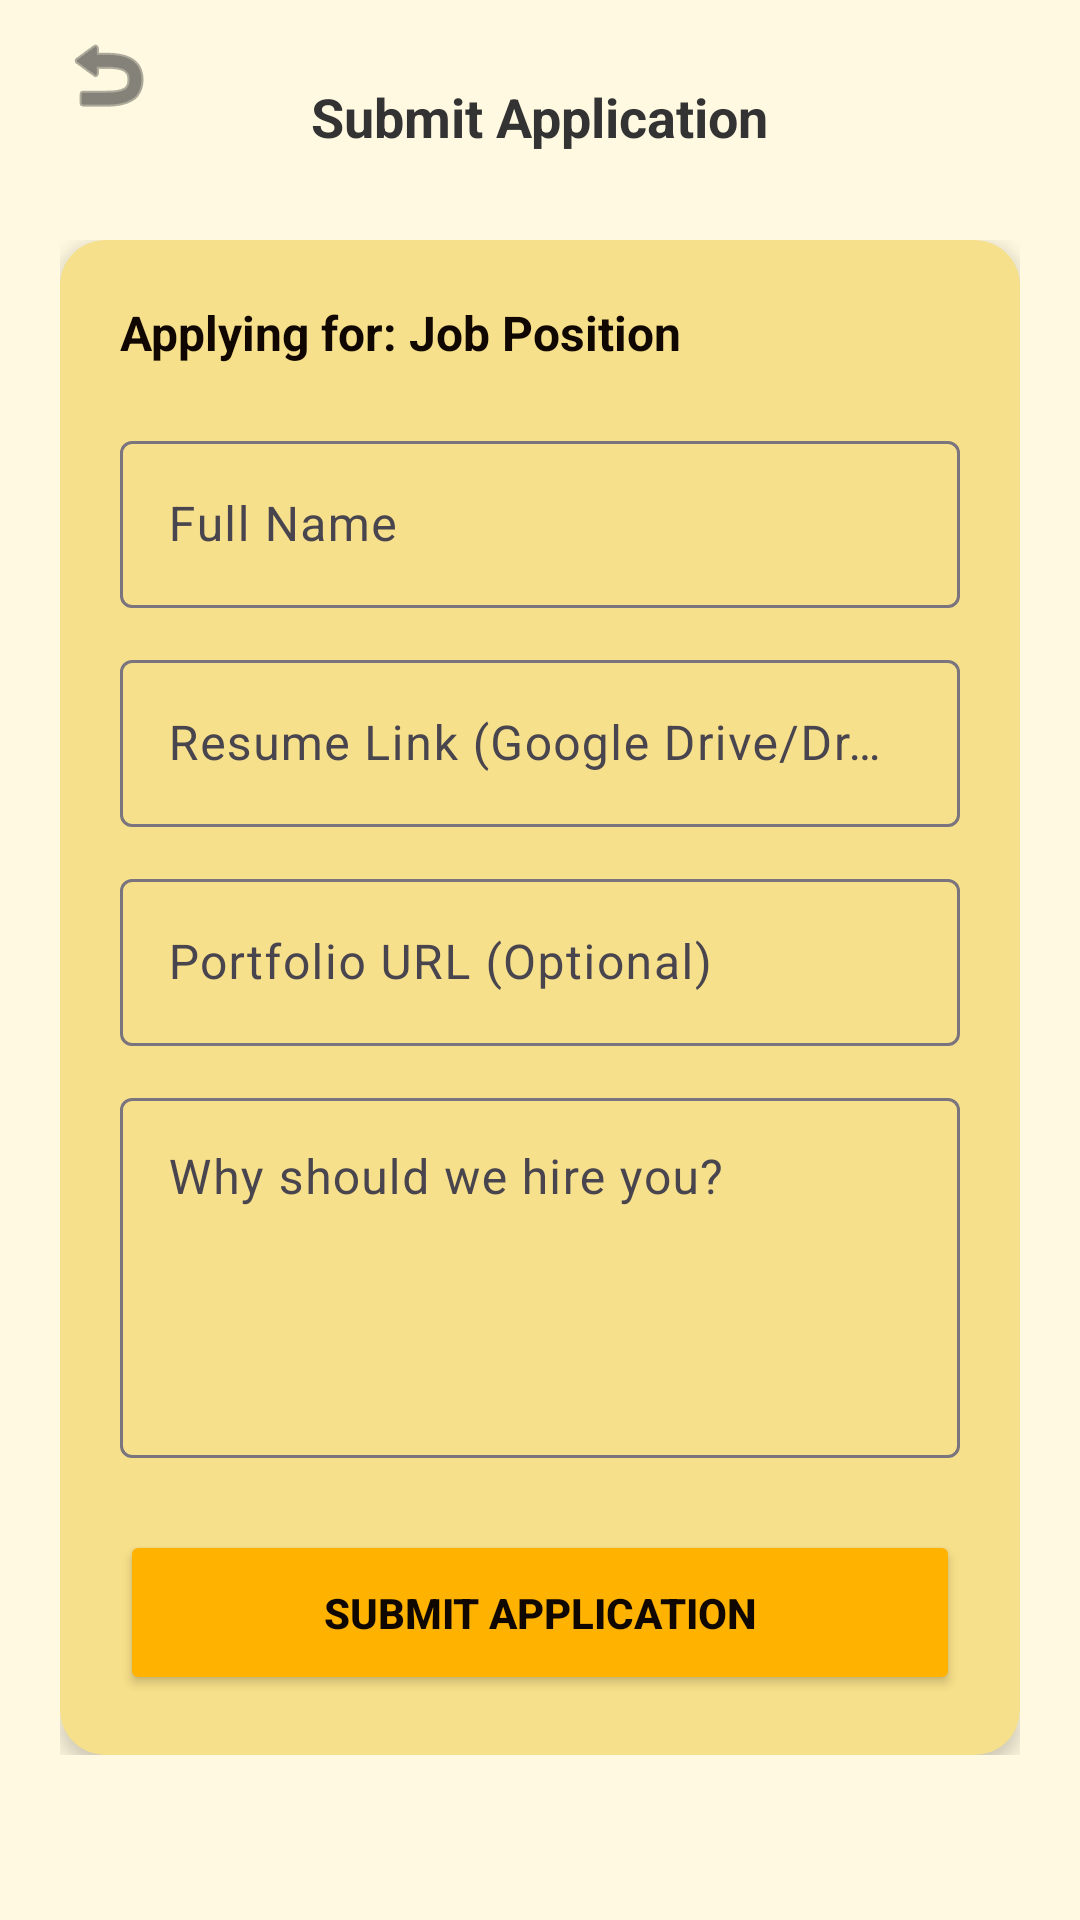

Icons on this 1080px×1920px Android screen, each with the point to tap as point (x, y):
revert: point (109, 75)
